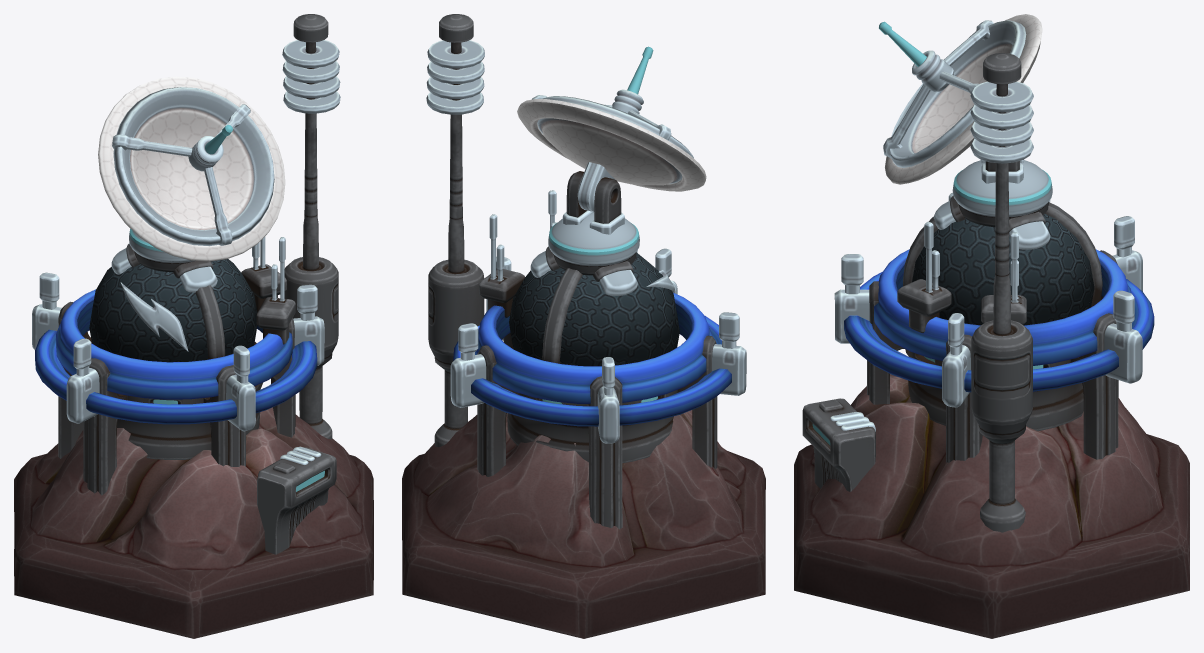
File: CC_lvl2.fbx
3 views of the same model, side by side, from view 1: azimuth 30°, elevation 25°; view 2: azimuth 150°, elevation 25°; view 3: azimuth 270°, elevation 25° (orthographic). The views are drawn at different scales.
Parts seen in each view (by area): view 1: CC_lvl2_satellite3; view 2: CC_lvl2_satellite3; view 3: CC_lvl2_satellite3.
Part boxes in pixels (x1,y1,x2,y2): CC_lvl2_satellite3: (14,14,373,638); CC_lvl2_satellite3: (402,14,765,638); CC_lvl2_satellite3: (794,14,1189,638).
Bounding box in the file's own units: 7.51 × 10 × 6.51.
